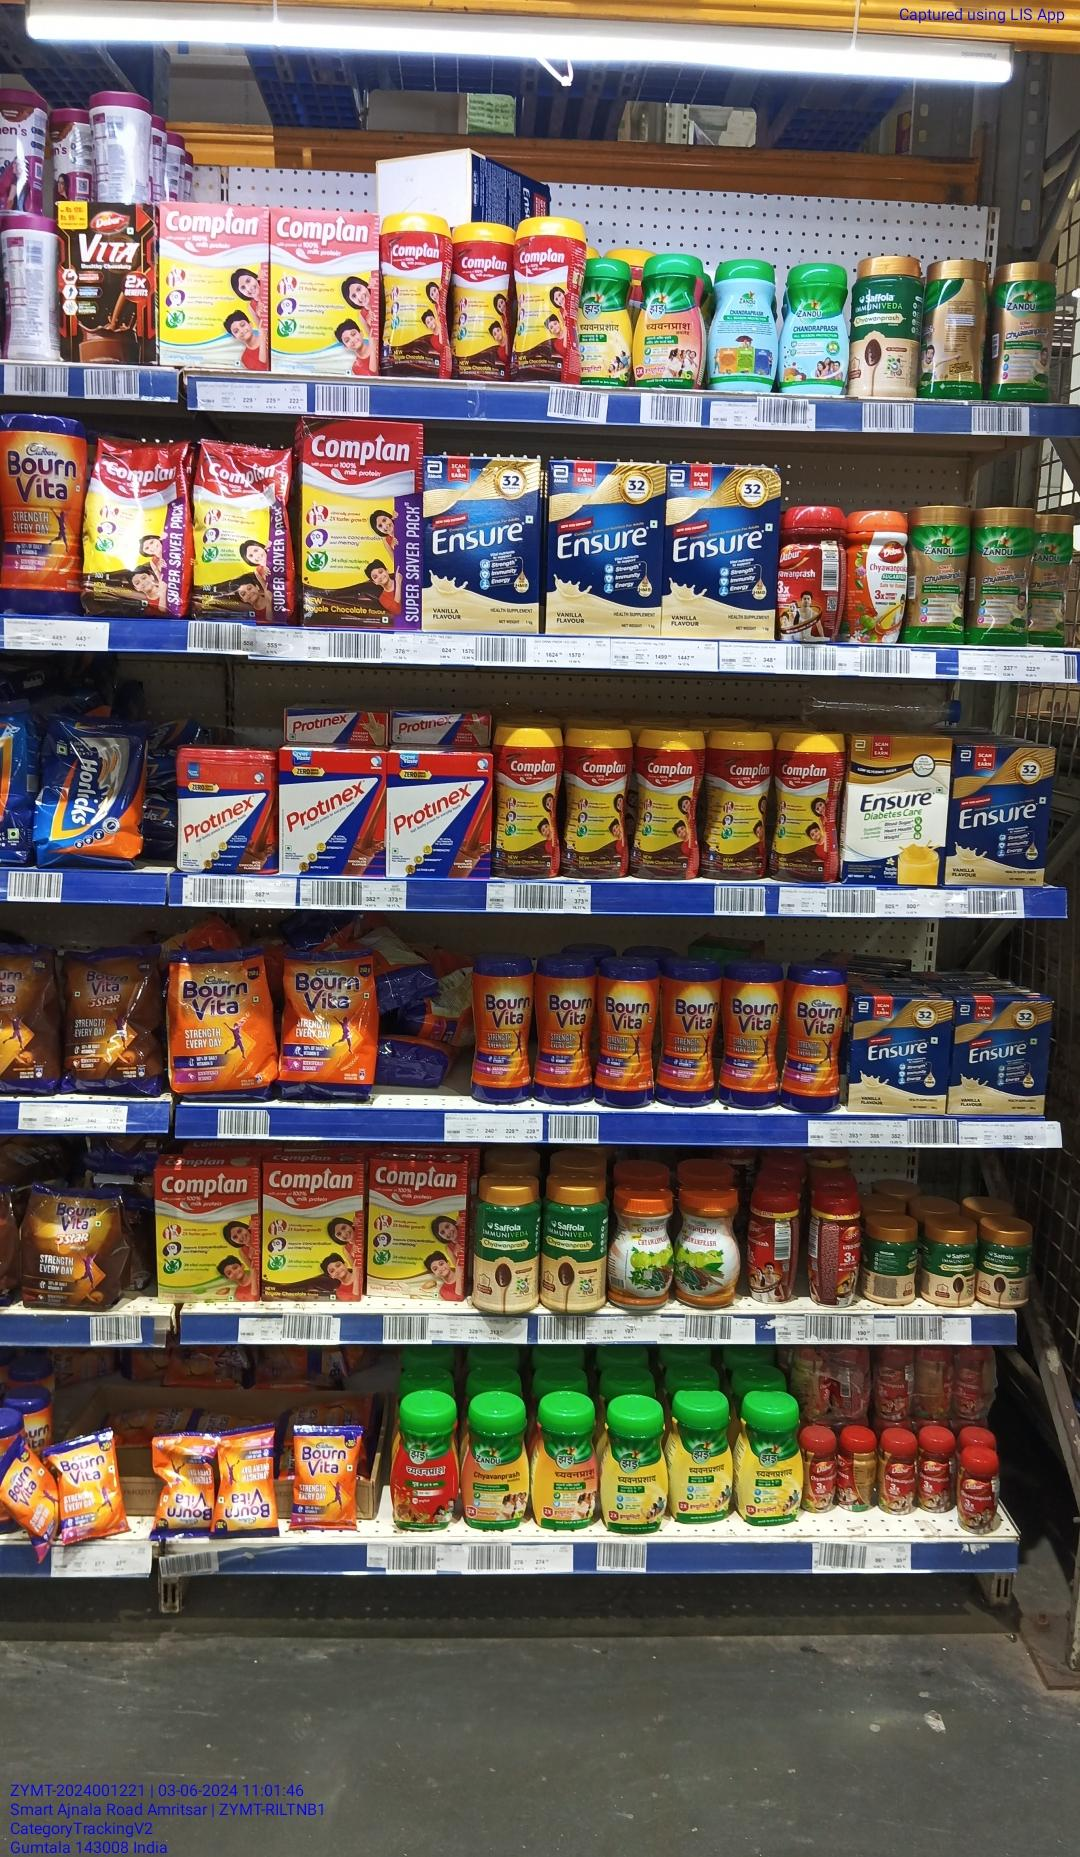BOURN_VITA_75_G_POUCH: (292, 1429, 360, 1533), (53, 1432, 121, 1536)
BOURN_VITA_FIVE_STAR_MAGIC_500_G_POUCH: (23, 1186, 123, 1310)
BOURN_VITA_FIVE_STAR_MAGIC_750_G_POUCH: (63, 943, 166, 1094)
ENSURE_VANILLA_400_G_PACK: (422, 455, 543, 635), (549, 463, 662, 636), (669, 466, 779, 644), (954, 744, 1054, 887), (851, 999, 949, 1118), (954, 997, 1050, 1118)
PROTINEX_CHOCOLATE_400_G_JAR: (176, 748, 275, 874)
